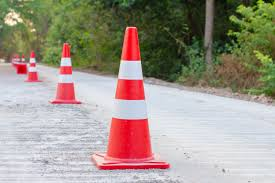cones: (91, 25, 171, 171), (48, 43, 81, 104), (24, 51, 41, 83), (17, 54, 28, 76)
